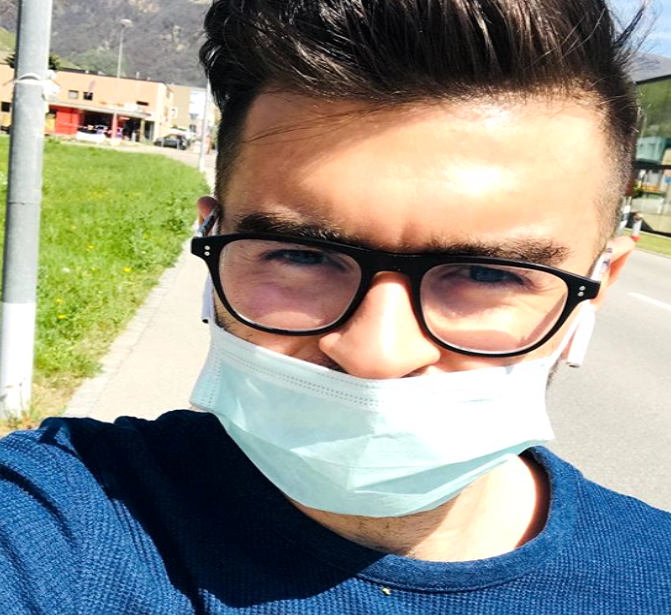mask_weared_incorrect: (184, 43, 648, 525)
